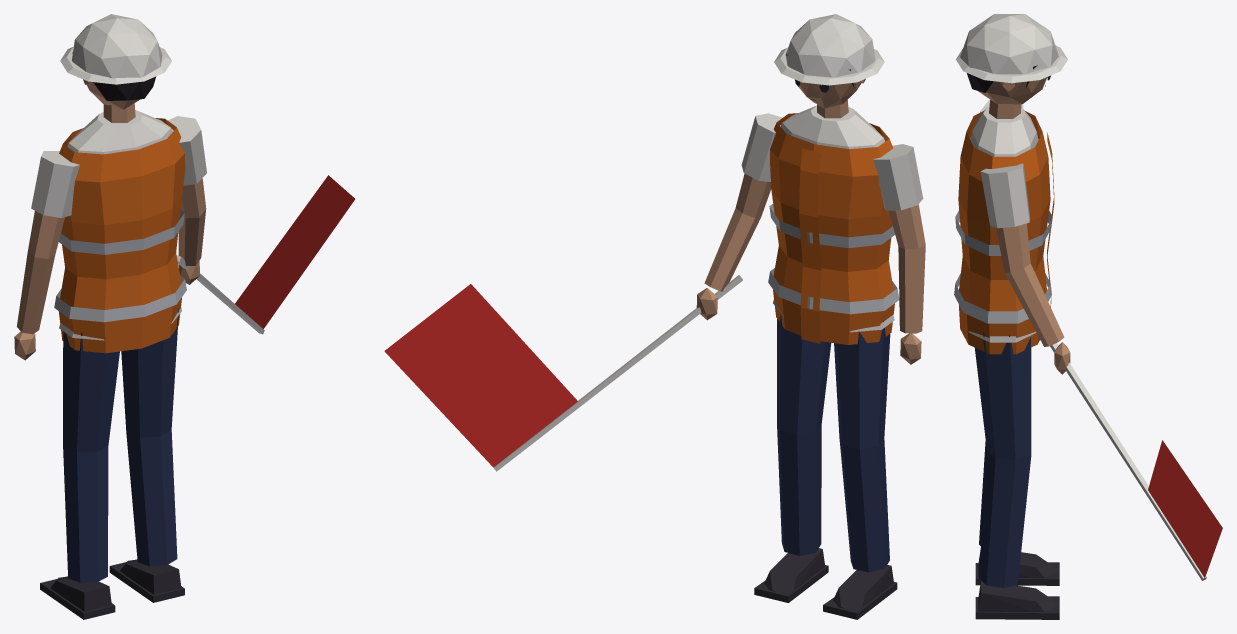
The model's file is marshal.glb.
3 views of the same model, side by side, from view 1: azimuth 30°, elevation 25°; view 2: azimuth 150°, elevation 25°; view 3: azimuth 270°, elevation 25° (orthographic).
Parts seen in each view (by area): view 1: marshal; view 2: marshal; view 3: marshal.
Part boxes in pixels (box(x1,y1,x2,y2)): marshal: box(14, 14, 355, 619); marshal: box(384, 14, 925, 619); marshal: box(954, 14, 1222, 619).
Size of the model in its own units: 1.4 by 1.74 by 0.7343.
